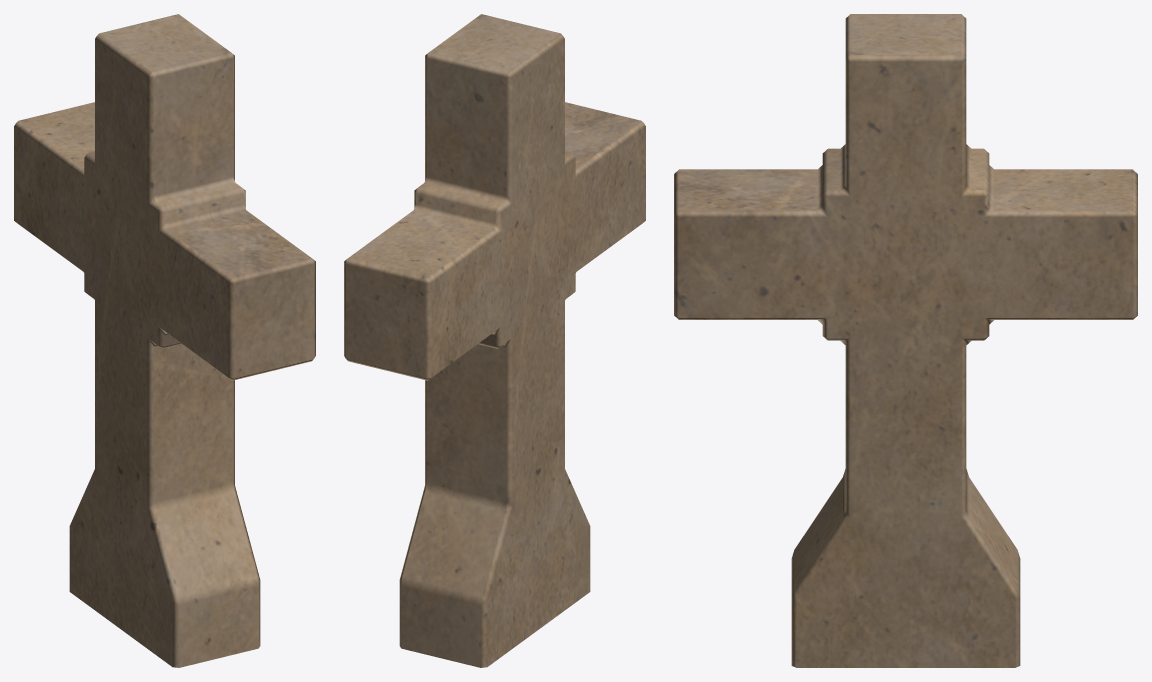
Rendered from SM_MausoleumCrossA.fbx.
The picture shows the model from 3 angles, left to right: view 1: azimuth 30°, elevation 25°; view 2: azimuth 150°, elevation 25°; view 3: azimuth 270°, elevation 25°; orthographic projection. The views are drawn at different scales.
Visible parts, largest first — view 1: SM_MausoleumCrossA_LOD0; view 2: SM_MausoleumCrossA_LOD0; view 3: SM_MausoleumCrossA_LOD0.
Part boxes in pixels (x1=…): SM_MausoleumCrossA_LOD0: x1=14, y1=14, x2=315, y2=667; SM_MausoleumCrossA_LOD0: x1=344, y1=14, x2=645, y2=667; SM_MausoleumCrossA_LOD0: x1=674, y1=14, x2=1137, y2=667.
Size of the model in its own units: 10.73 by 46.33 by 67.29.
Materials: 1 (1 with a texture image).
